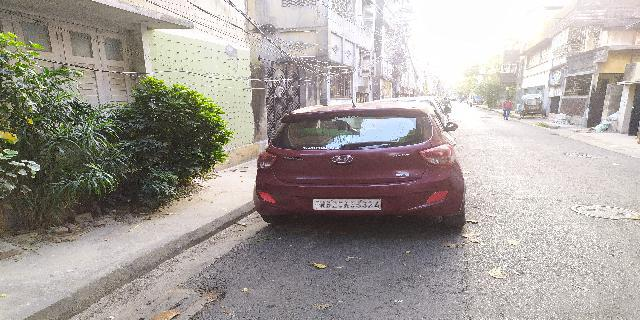Car: (255, 96, 470, 228)
